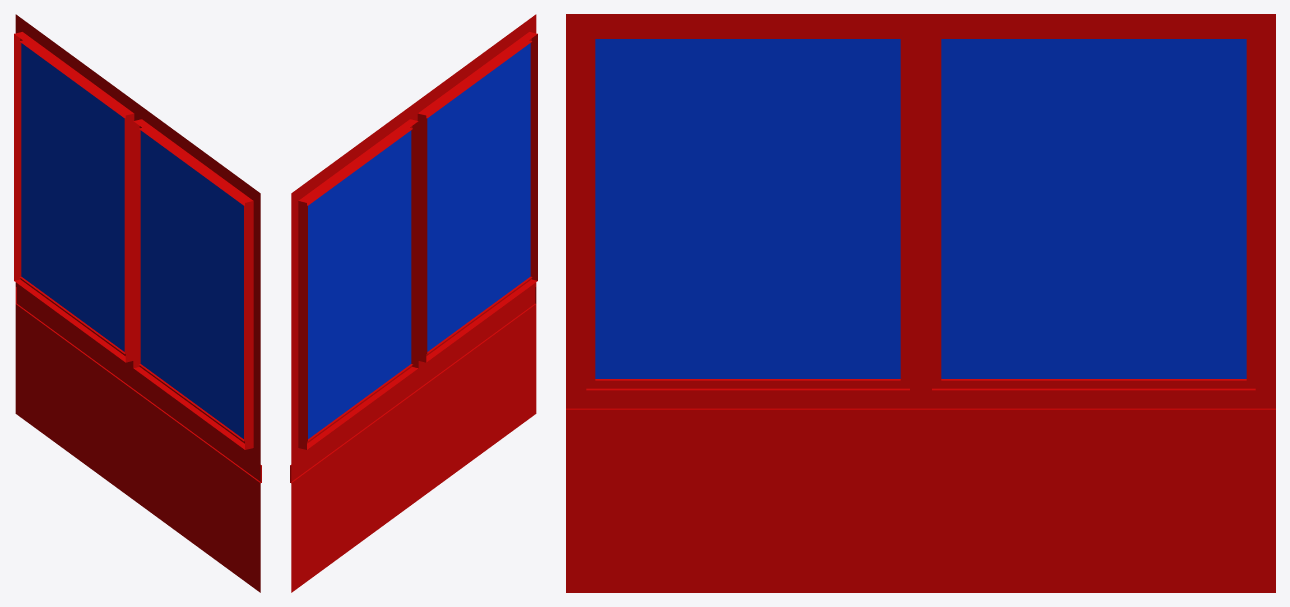
File: wall05_l.fbx
3 renders of one model, left to right at view 1: azimuth 30°, elevation 25°; view 2: azimuth 150°, elevation 25°; view 3: azimuth 270°, elevation 25°, orthographic. The views are drawn at different scales.
Parts seen in each view (by area): view 1: Plane.027; view 2: Plane.027; view 3: Plane.027.
Boxes of the visible parts, left/top/right/bottom form: Plane.027: left=14, top=14, right=261, bottom=592; Plane.027: left=290, top=14, right=537, bottom=592; Plane.027: left=566, top=14, right=1275, bottom=592.
Bounding box in the file's own units: 11.57 × 450 × 500.
